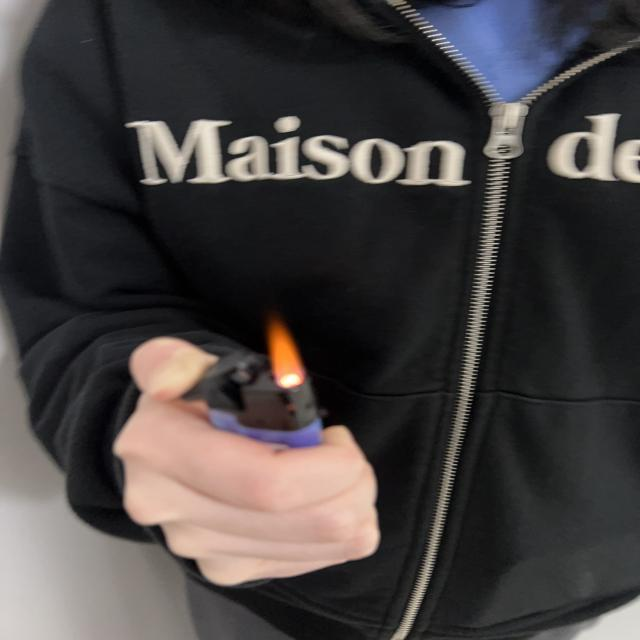fire: (266, 308, 310, 392)
